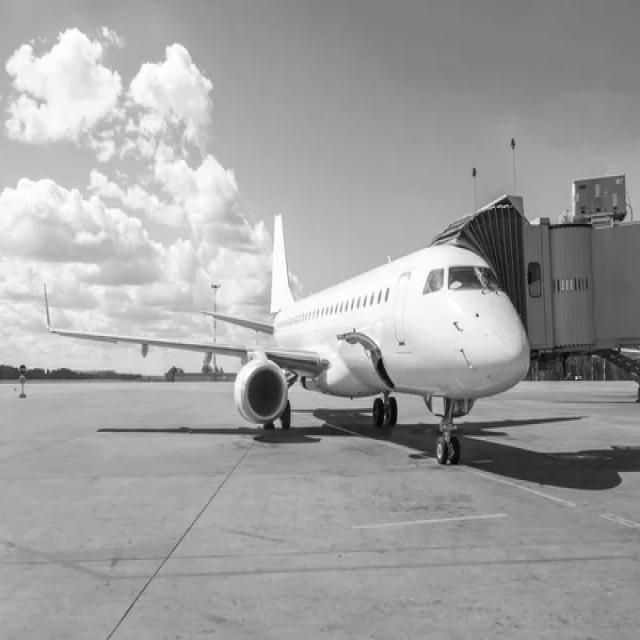Aircraft: (35, 214, 538, 474)
